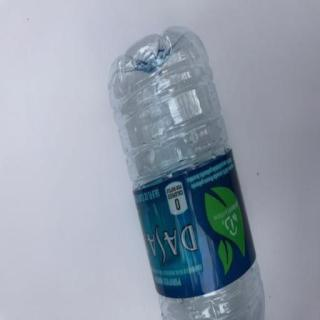Plastic-bottle: (105, 21, 270, 320)
